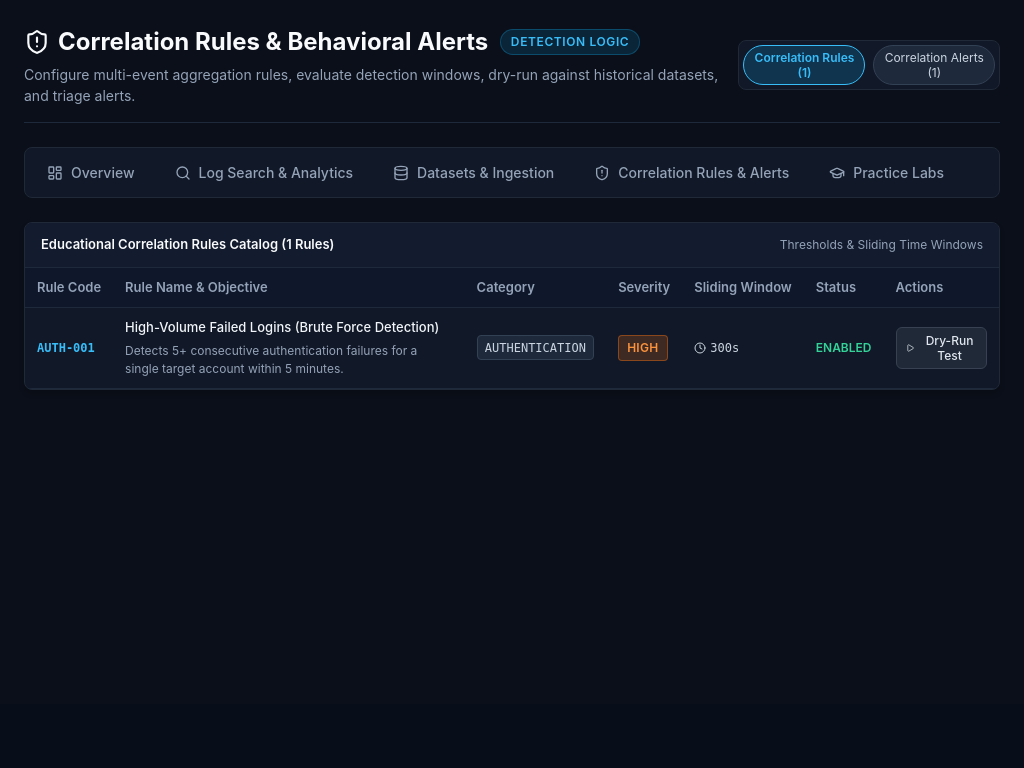
Test: Step 15: SIEM & Security Log Analysis Engine Frontend Tests › renders SiemRulesPage with correlation rules and dry-run tester
expect the heading "Correlation Rules & Behavioral Alerts" is shown: met, box [24,24,488,60]
expect the text "High-Volume Failed Logins (Brute Force Detection)" is shown: met, box [125,318,453,338]
# Click Dry-Run Test button
Click the button "Dry-Run Test": coordinates (941, 348) [896,327,987,369]
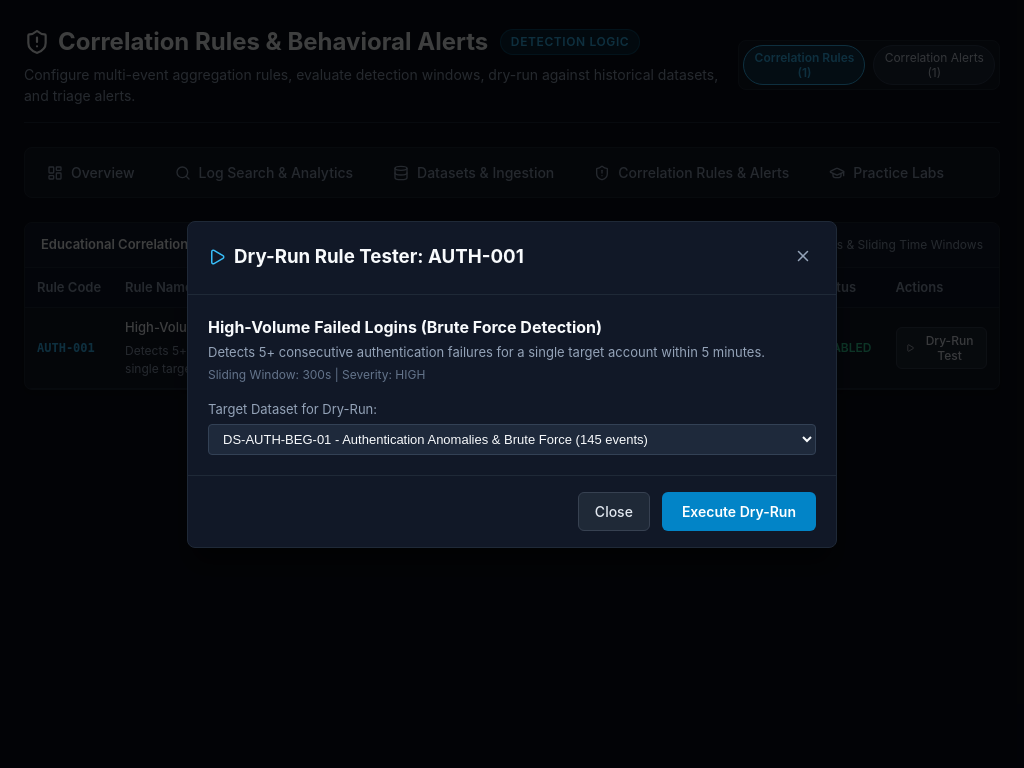
expect the heading "Dry-Run Rule Tester: AUTH-001" is shown: met, box [208,244,524,272]
